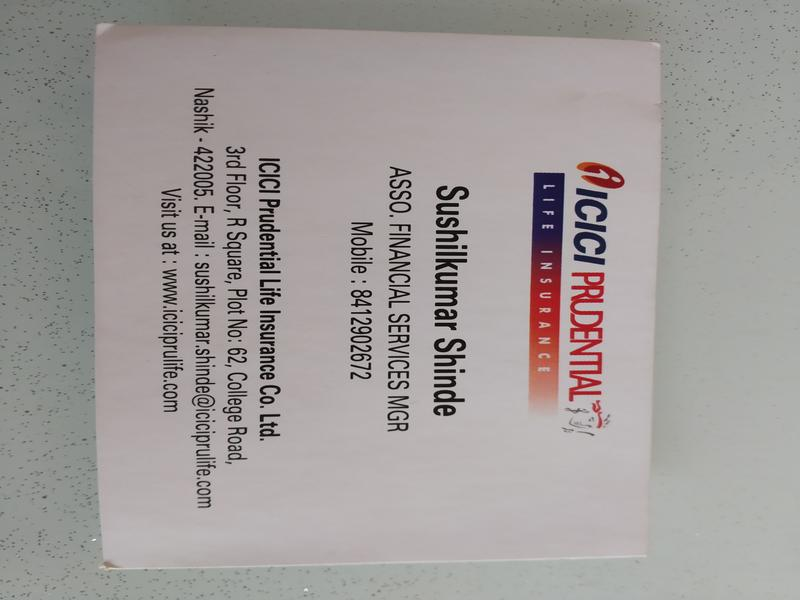card: (90, 17, 665, 575)
